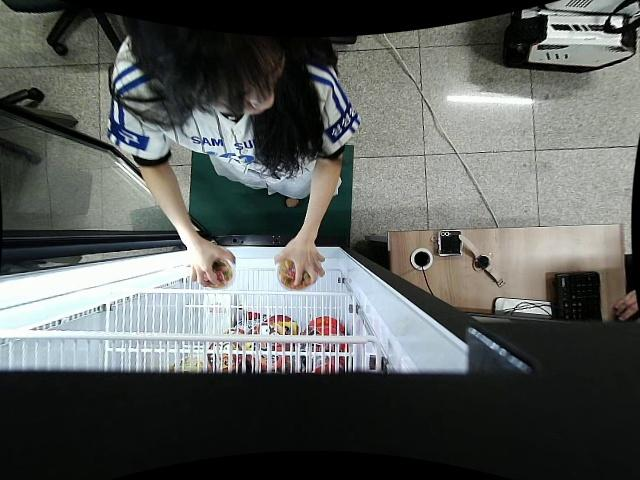00_hand: (275, 240, 327, 289), (184, 241, 237, 288)
09_yukGaeJang: (199, 257, 237, 289), (277, 257, 313, 289)
